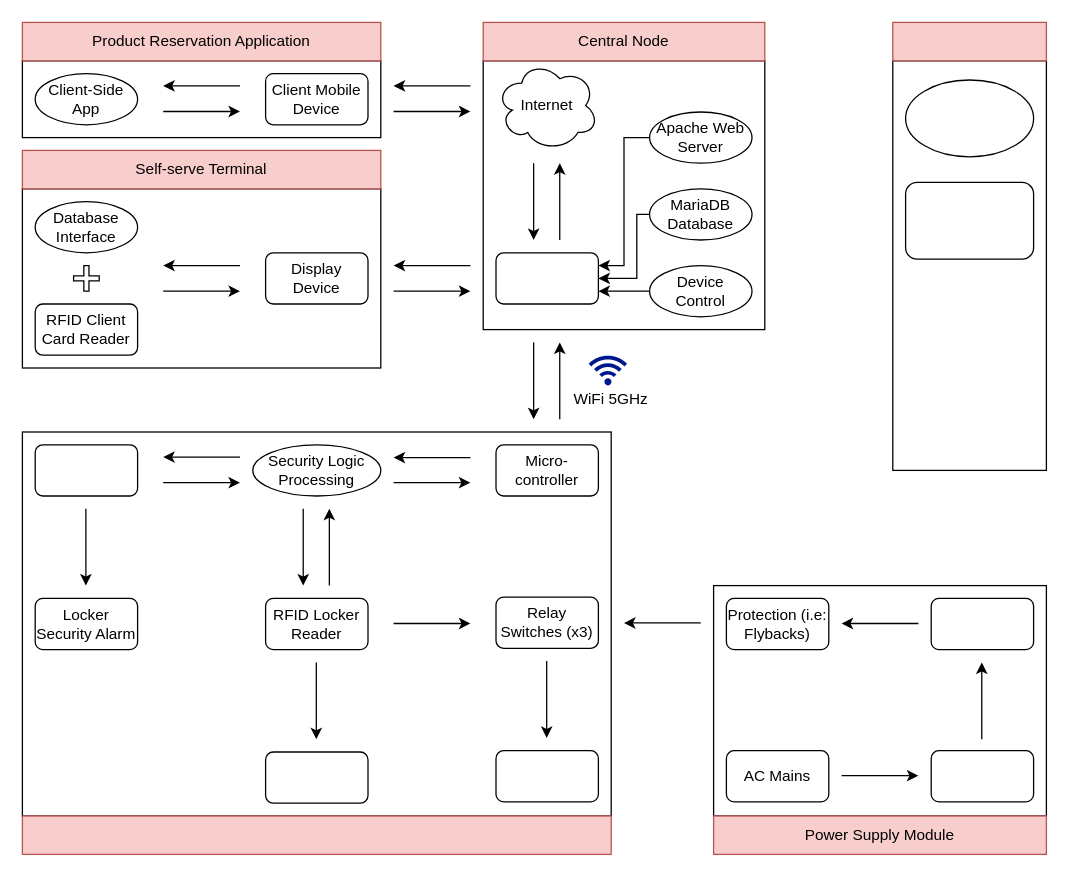
Some shapes in this 1069 by 877 pixel diagram are drawn without their labels. Each missing label, with the centre of its shape:
"Full Bridge Rectifier" goes at (982,623).
"Isolated Buck Converter" goes at (982,775).
"Main Server" goes at (546,278).
"Physical Device or Component" goes at (969,220).
"Programming Component" goes at (969,118).
"RFID Product Detection (x3)" goes at (86,470).
"RFID Product Security System" goes at (316,834).
"Solenoid Locks (x3)" goes at (546,775).
"Storage LED Status" goes at (316,777).
"Symbols" goes at (969,41).
